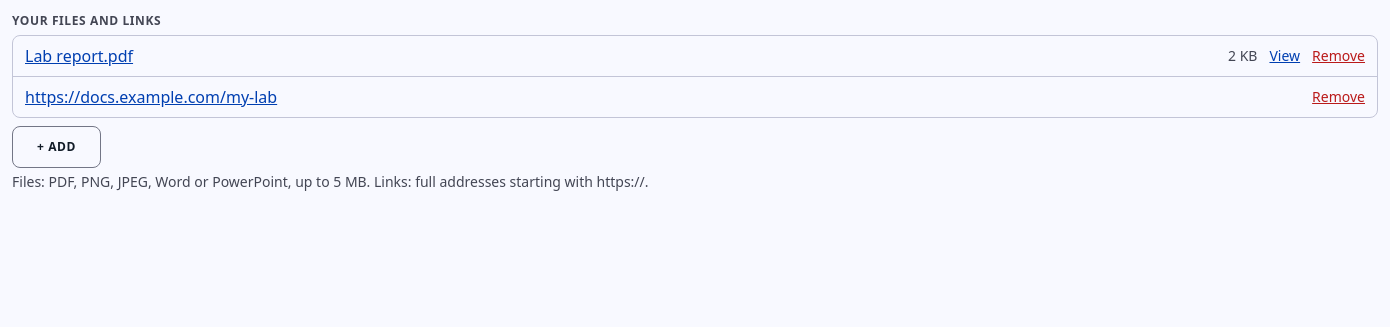
Test: adding a link › never sends a link that is not https
Click the button "+ Add" at point(56, 147), box [12, 126, 101, 168]
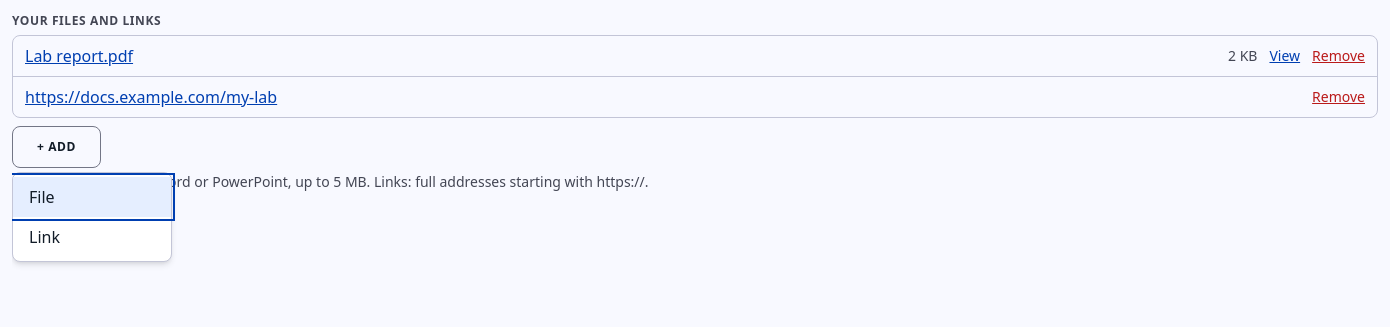
Click the menu item "Link" at point(92, 237), box [13, 217, 171, 257]
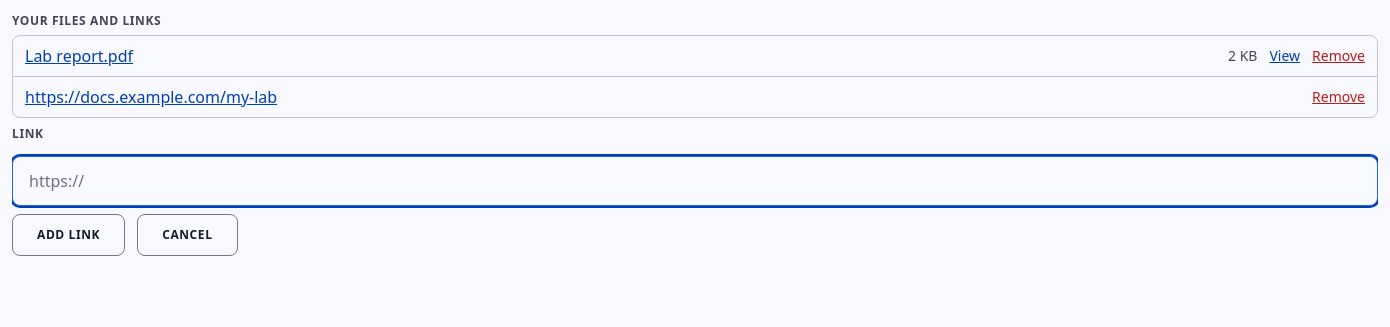
Type "http://example.com" into the field labelled "Link" at point(695, 181), box [12, 156, 1378, 206]
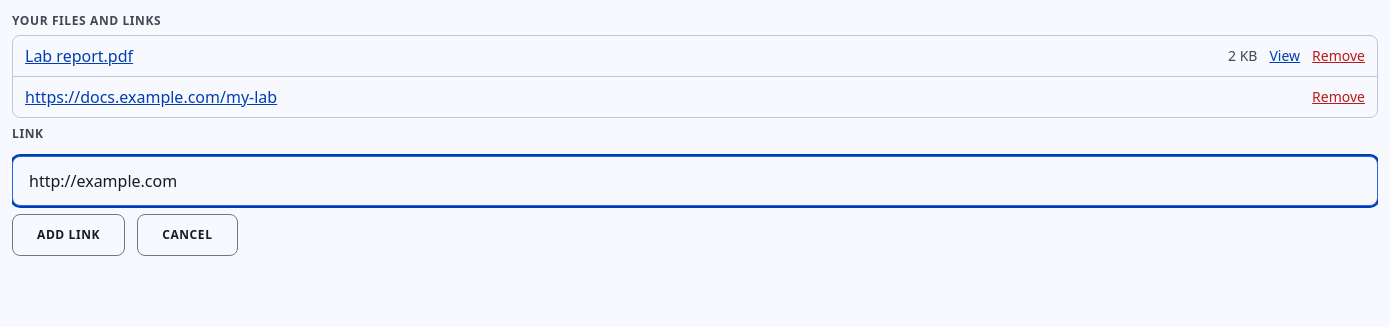
Click the button "Add link" at point(69, 235), box [12, 214, 125, 256]
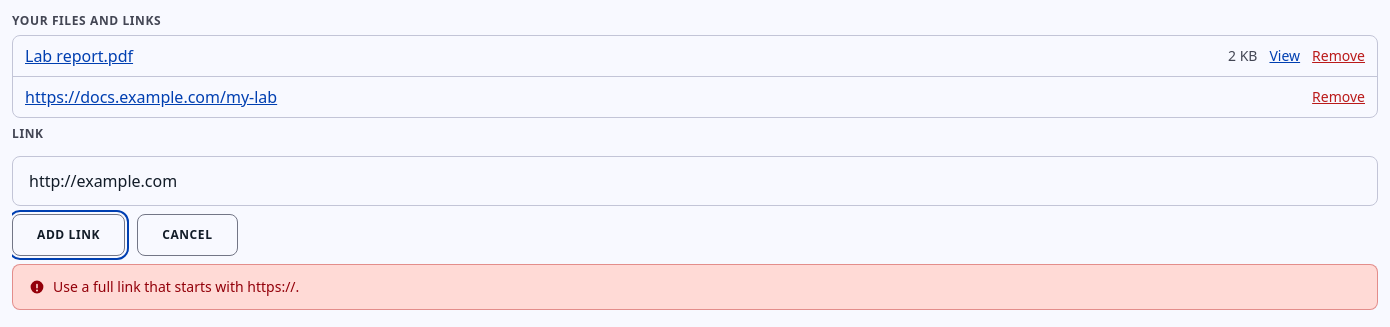
Check: the message reads "Use a full link that starts with https://.", box [53, 277, 299, 296]
